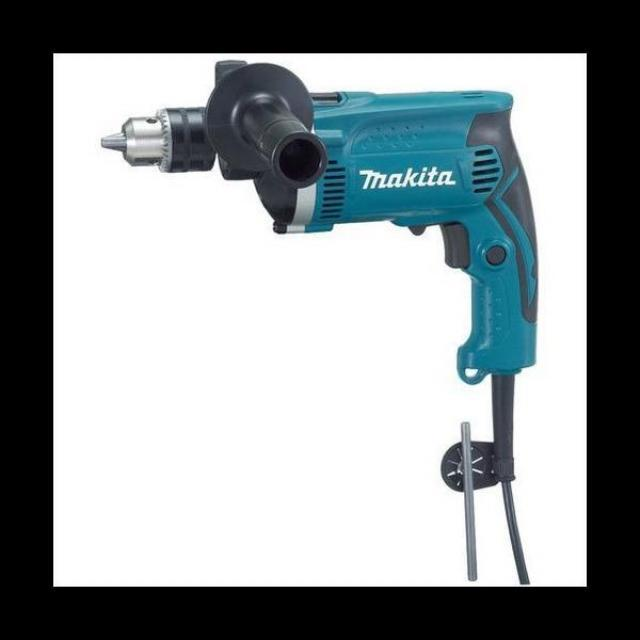drill: (100, 59, 540, 492)
